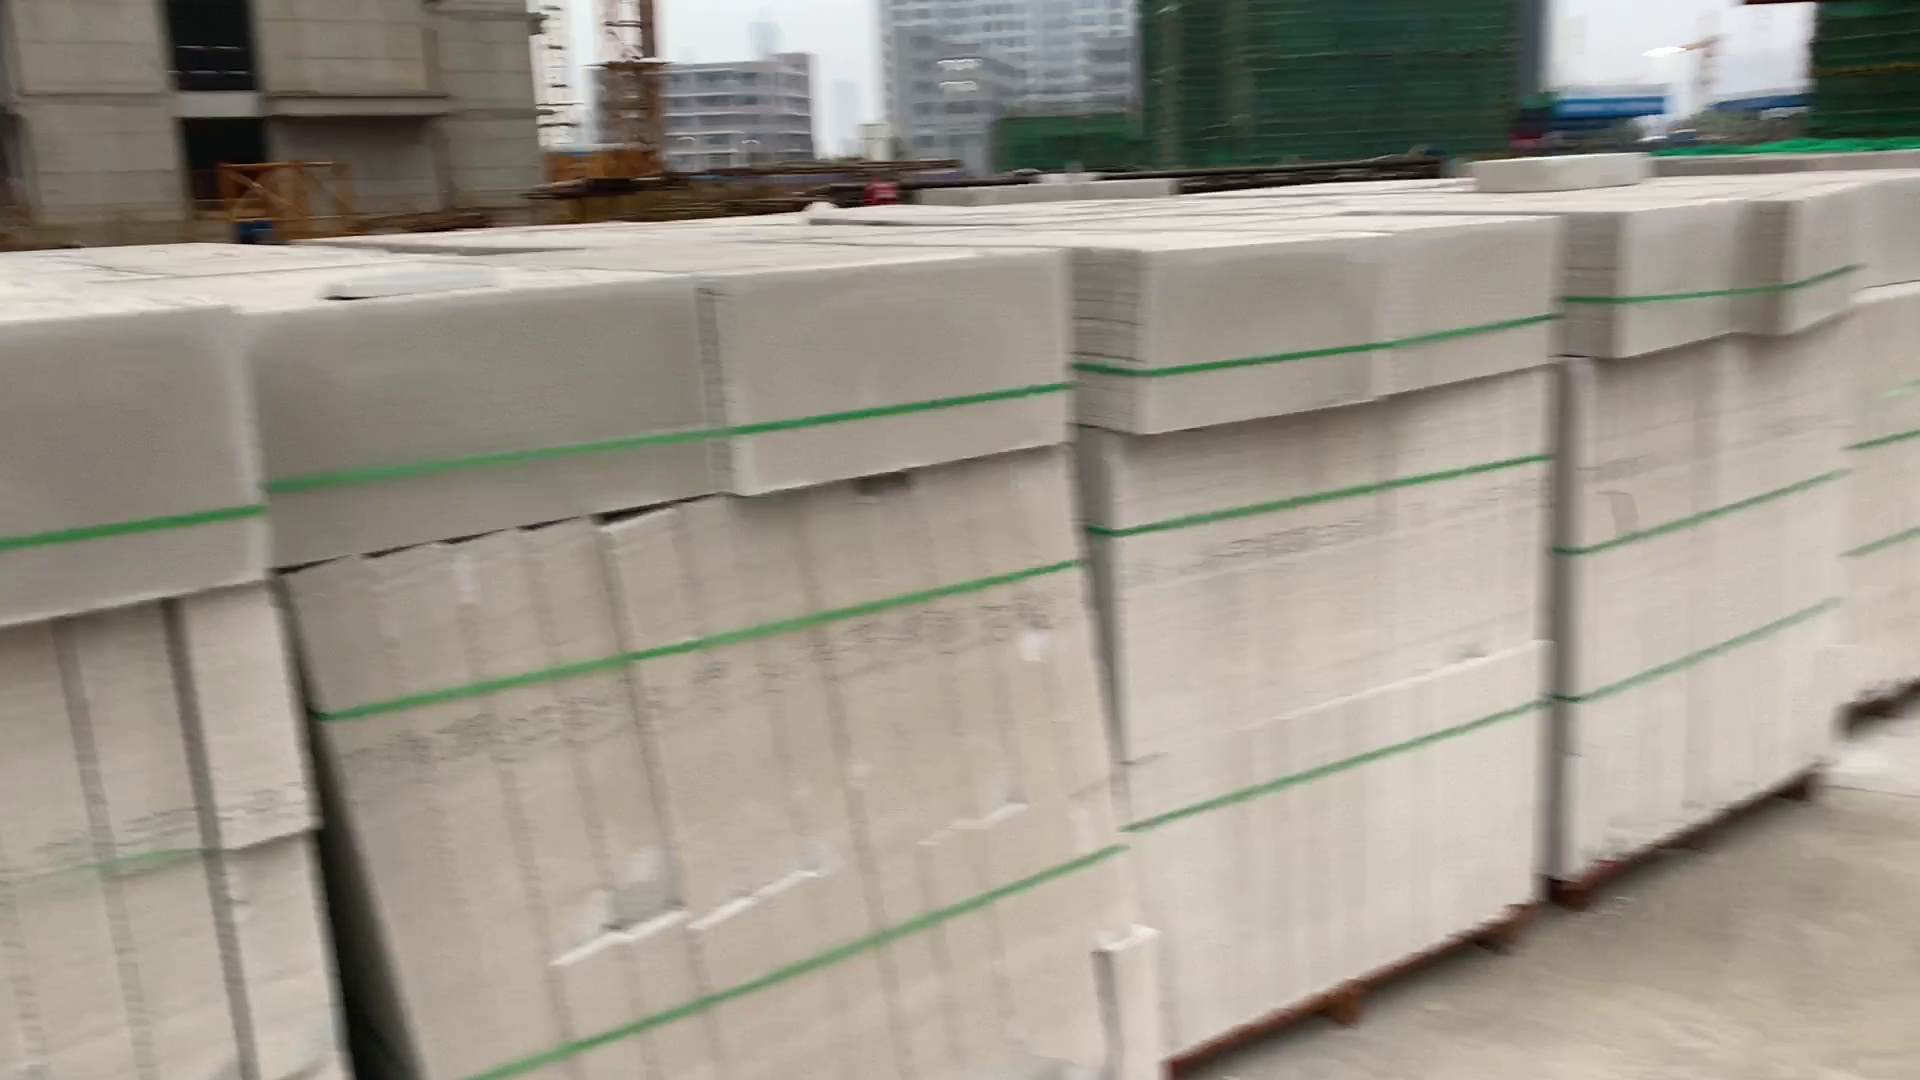brickwork: (277, 247, 1158, 1076), (1124, 231, 1553, 1052), (3, 258, 348, 1080), (1560, 193, 1832, 916)
